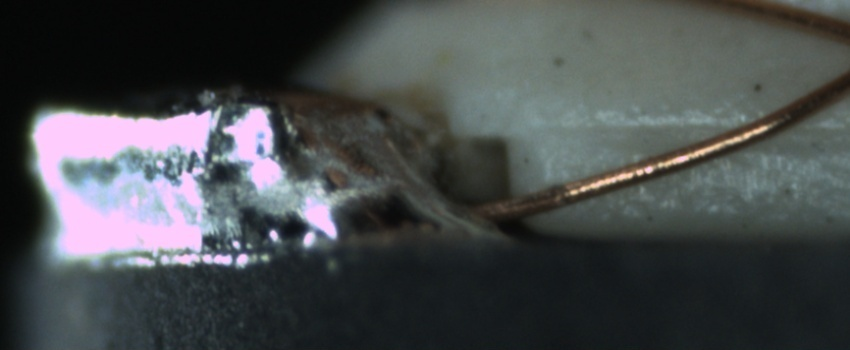DL: (541, 98, 850, 163)
